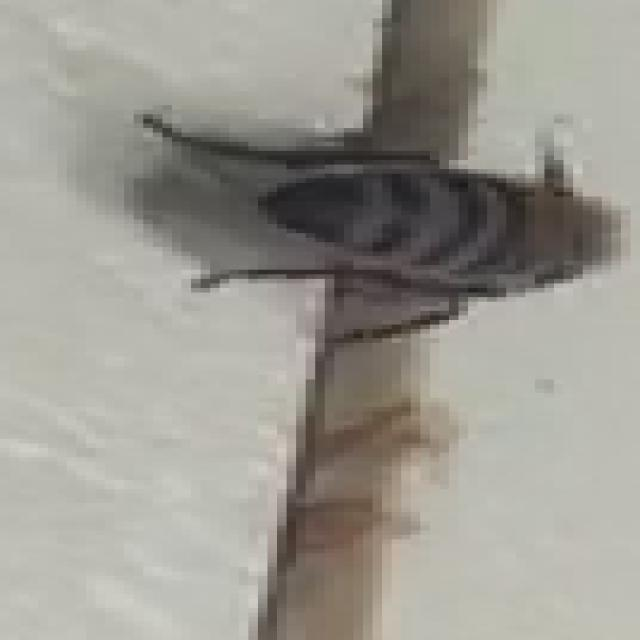honeybee: (68, 93, 605, 341)
